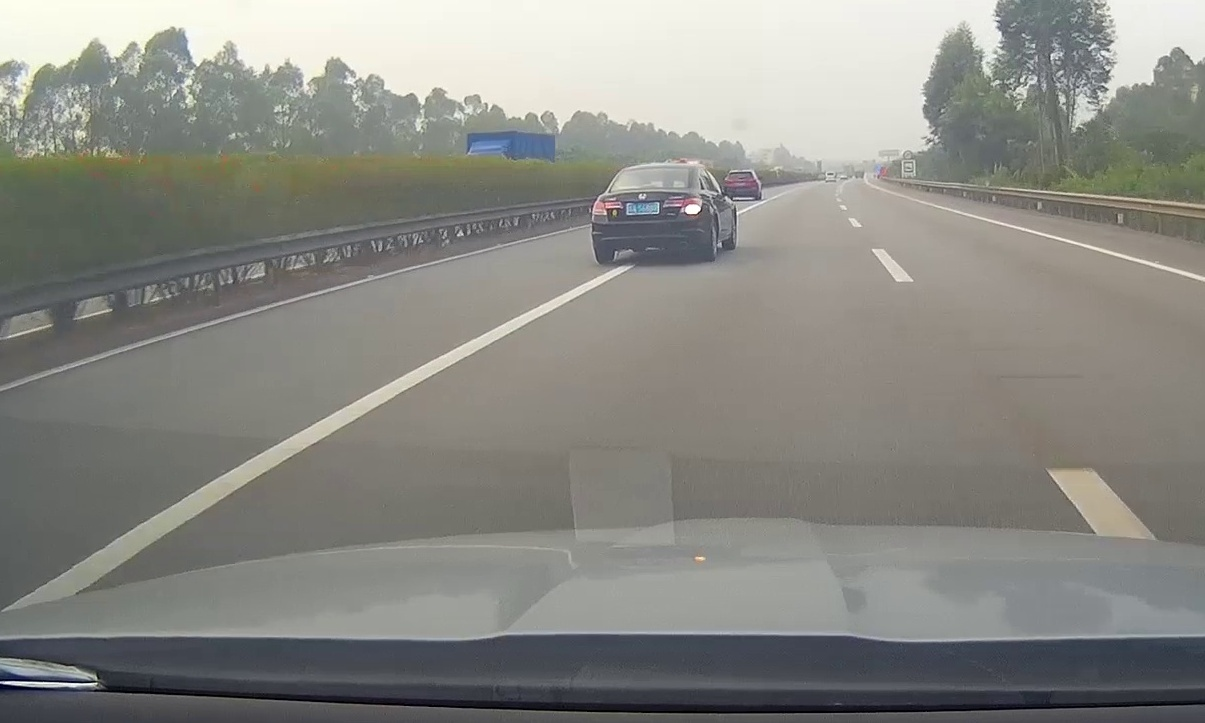L_light: (592, 200, 623, 215), (725, 180, 731, 184)
R_light: (662, 197, 702, 216), (750, 179, 756, 183)
T_light: (648, 168, 665, 171), (738, 173, 744, 174)
day-no: (724, 171, 759, 200)
day-right: (591, 165, 704, 265)
